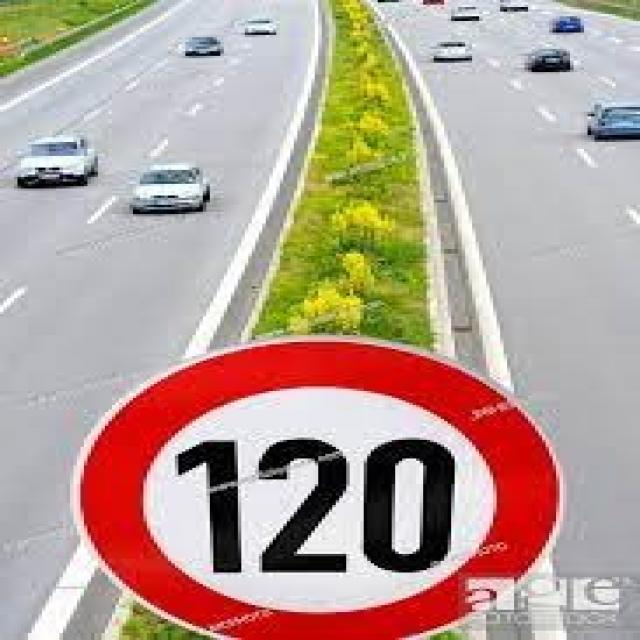speed_limit_120: (62, 335, 568, 640)
